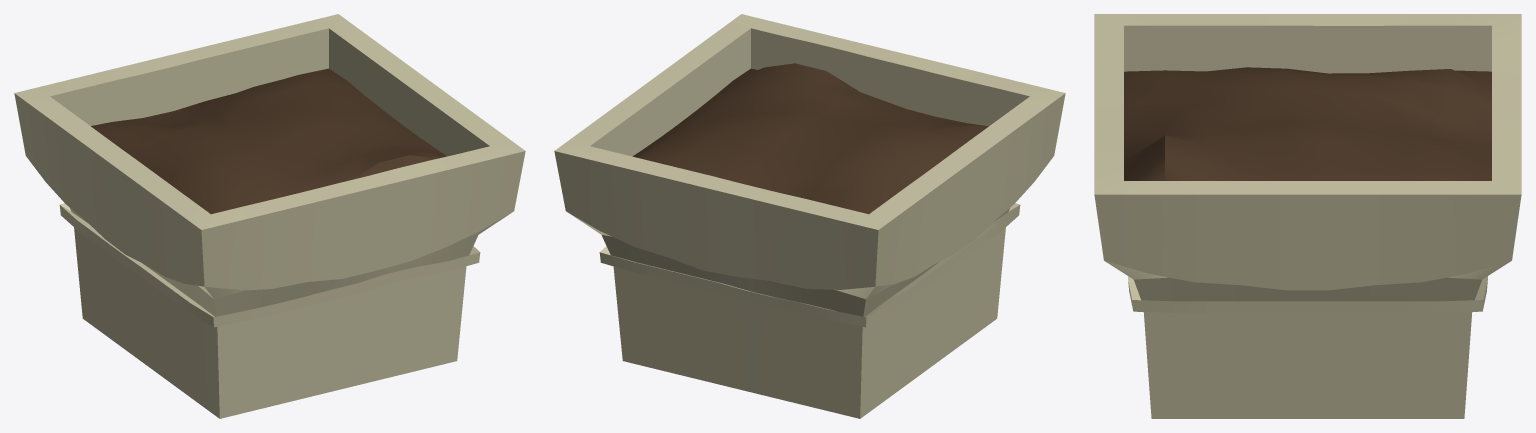
Rendered from 多肉花盆.glb.
3 views of the same model, side by side, from view 1: azimuth 30°, elevation 25°; view 2: azimuth 150°, elevation 25°; view 3: azimuth 270°, elevation 25° (orthographic). The views are drawn at different scales.
Parts seen in each view (by area): view 1: 多肉盆_01; view 2: 多肉盆_01; view 3: 多肉盆_01.
Part boxes in pixels (x1,y1,x2,y2): 多肉盆_01: [14, 14, 525, 418]; 多肉盆_01: [554, 14, 1065, 418]; 多肉盆_01: [1094, 14, 1521, 418].
Size of the model in its own units: 0.1394 by 0.09 by 0.1394.
